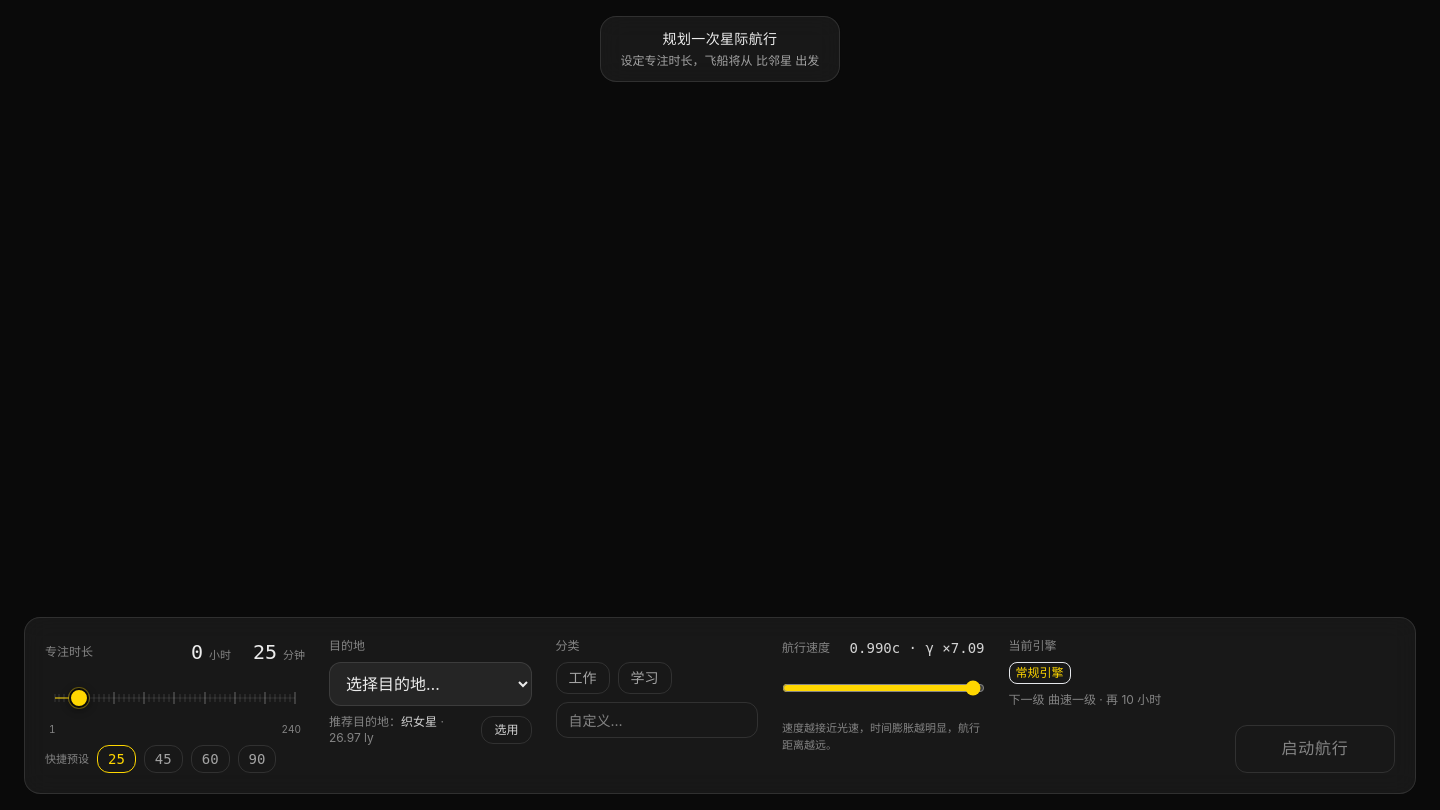
Test: SetupPanel › 从非太阳系出发：显示出发地/目的地距太阳 + 航行距离（leg）
This screenshot has width=1440, height=810.
Select "织女星 · 25.04 ly" in the dropdown labelled "目的地" at (430, 684), box [329,662,532,706]
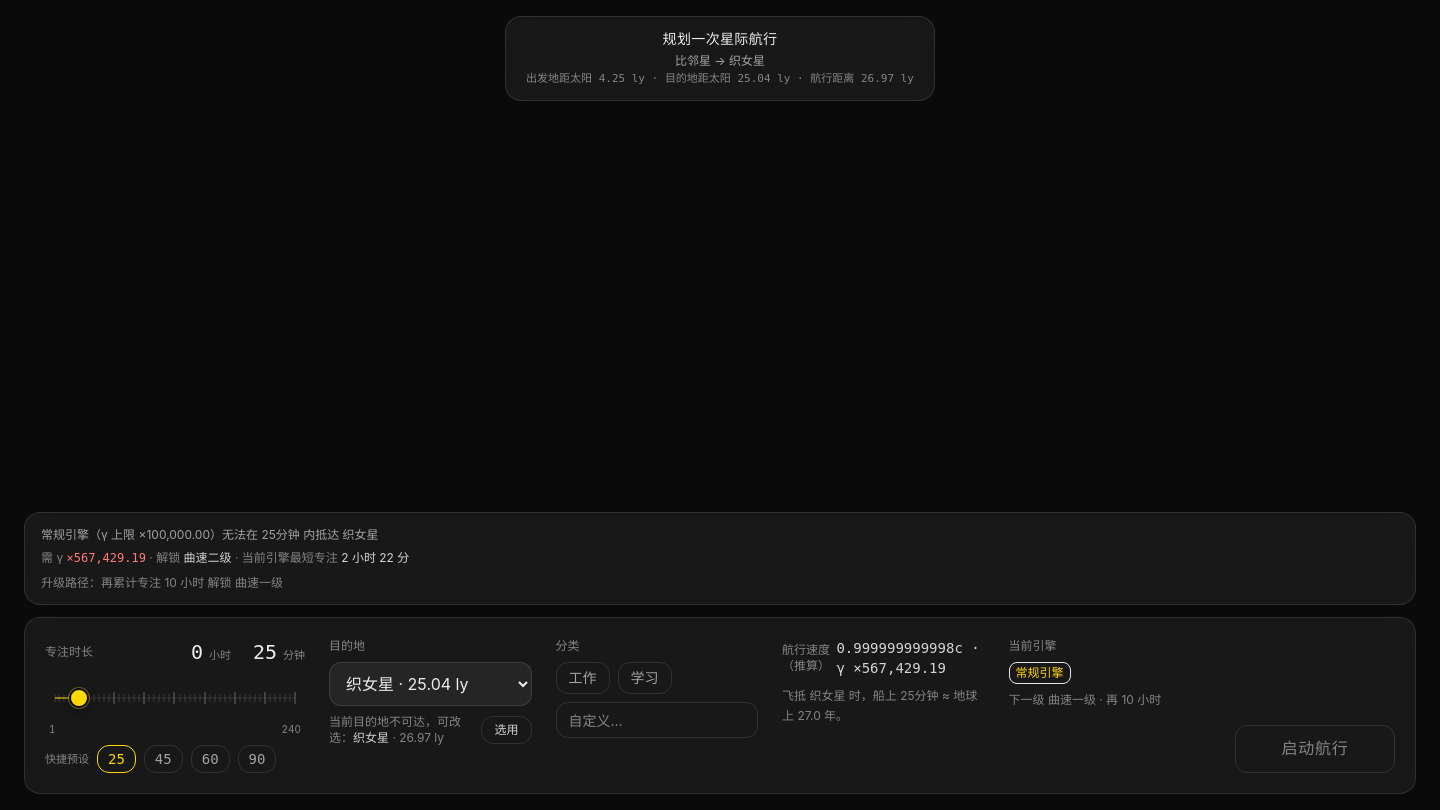
Expected: the text "比邻星 → 织女星" is shown, [675,53,765,68]
Expected: the text "出发地距太阳 4.25 ly · 目的地距太阳 25.04 ly · 航行距离 26.97 ly" is shown, [526,71,914,88]
